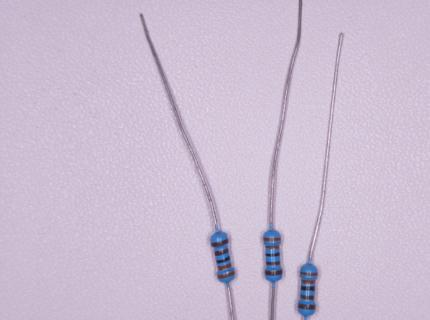Black band: (216, 256, 231, 264), (301, 286, 315, 291), (266, 253, 280, 257)
Brown band: (211, 239, 229, 247), (214, 248, 229, 256), (265, 270, 283, 276), (298, 304, 316, 310), (300, 294, 315, 300), (266, 261, 281, 265)
Orange band: (217, 271, 236, 280), (217, 263, 232, 272), (263, 237, 281, 241), (300, 272, 318, 276), (265, 245, 280, 249), (301, 280, 315, 284)
